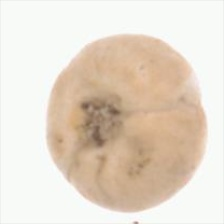L4: (45, 33, 208, 214)
